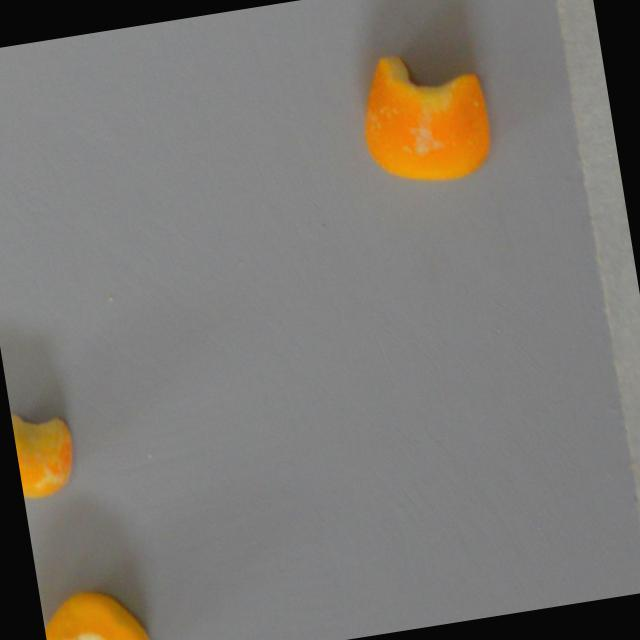no_canjicado: (40, 579, 154, 640)
pelicula: (350, 38, 498, 190), (11, 403, 80, 497)
